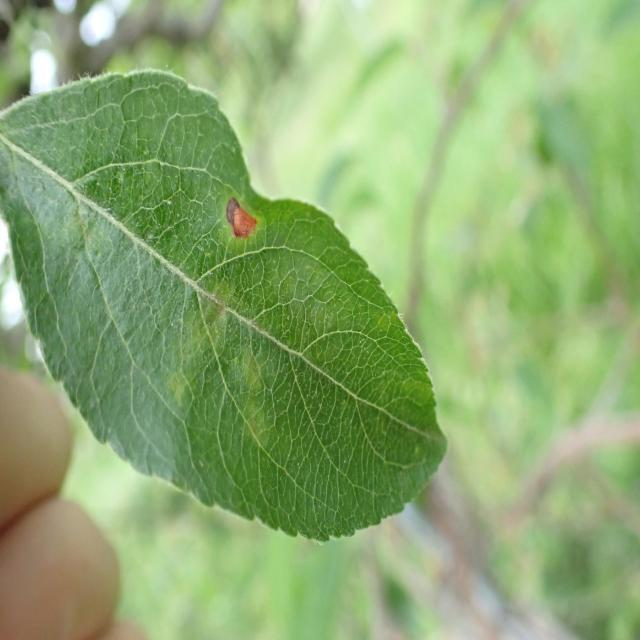frog-eye-leaf-spot: (0, 64, 449, 544)
